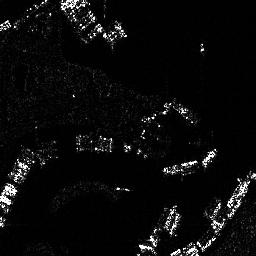ship: (161, 158, 198, 177), (201, 148, 217, 167)
